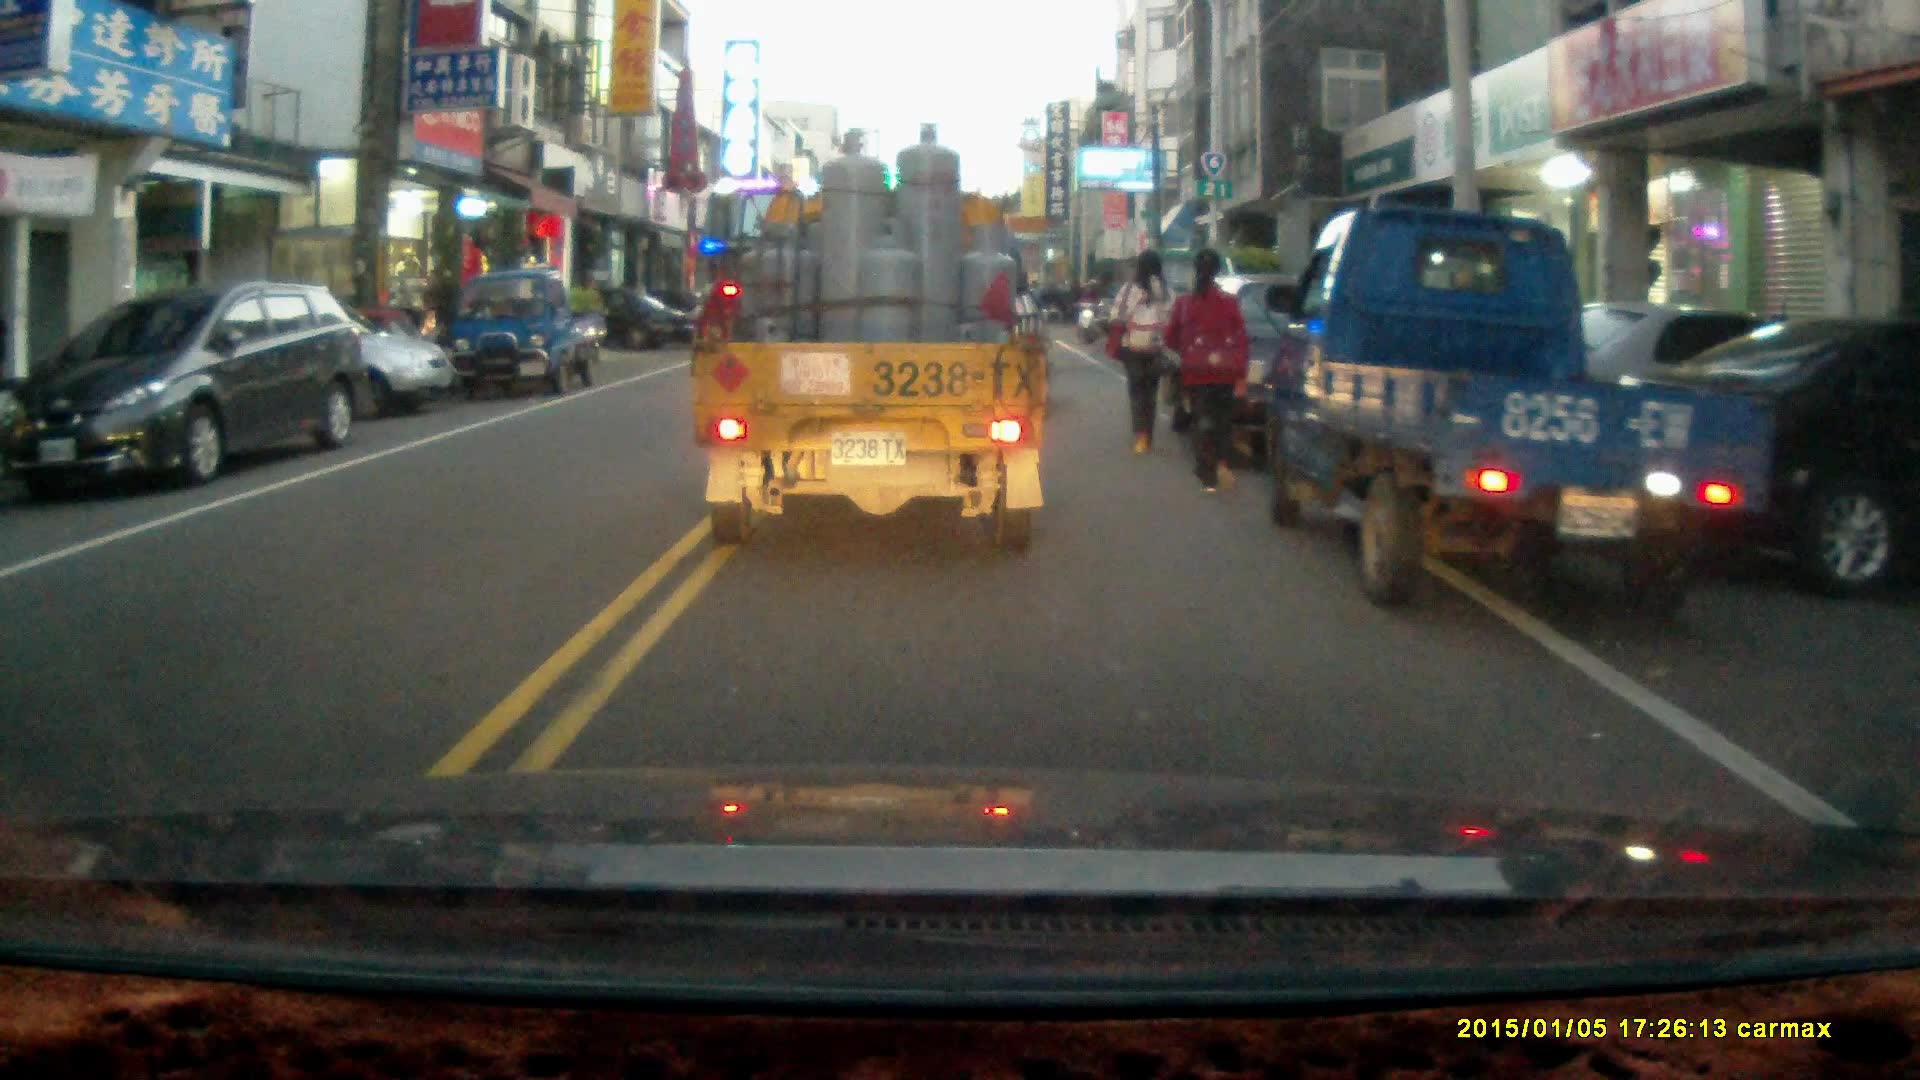pedestrian: (1161, 251, 1249, 497), (1105, 245, 1175, 452)
rider: (1073, 275, 1106, 342)
vehicle: (1263, 205, 1769, 629), (690, 123, 1051, 555), (3, 281, 363, 491), (1168, 272, 1421, 461), (160, 295, 458, 428), (448, 274, 599, 404)
